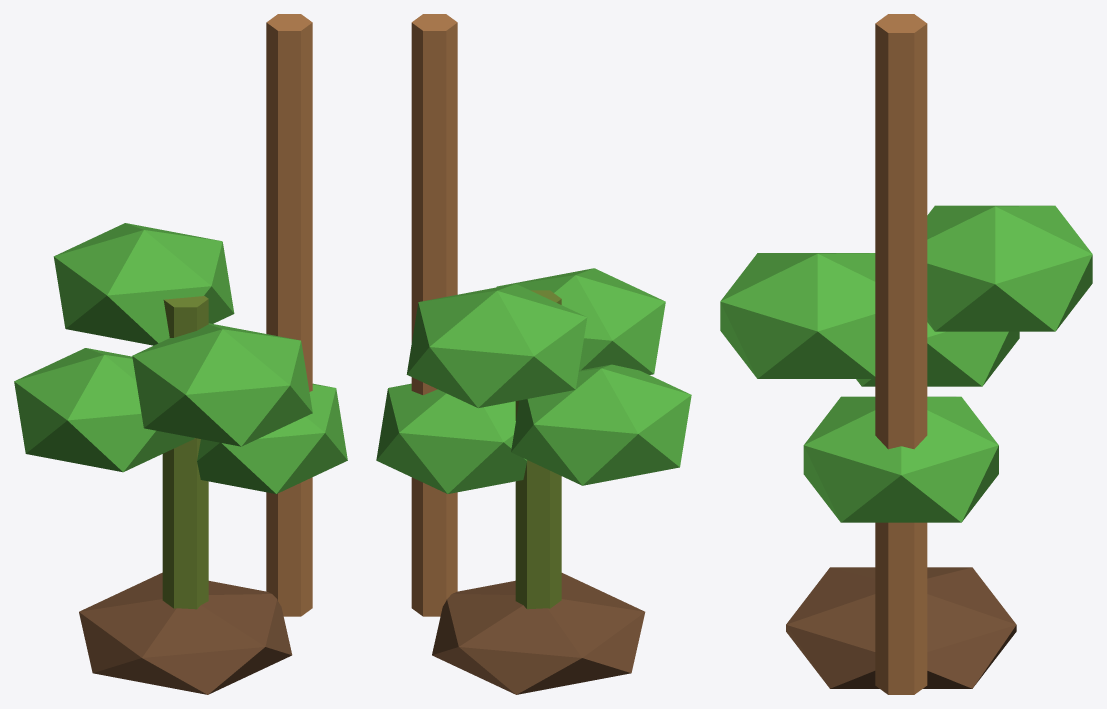
Rendered from crop_tomato_2.glb.
3 renders of one model, left to right at view 1: azimuth 30°, elevation 25°; view 2: azimuth 150°, elevation 25°; view 3: azimuth 270°, elevation 25°, orthographic. The views are drawn at different scales.
Parts seen in each view (by area): view 1: crop_tomato_2; view 2: crop_tomato_2; view 3: crop_tomato_2.
Part boxes in pixels (box(x1,y1,x2,y2)): crop_tomato_2: box(14, 14, 347, 694); crop_tomato_2: box(376, 14, 691, 694); crop_tomato_2: box(720, 14, 1092, 694).
Size of the model in its own units: 0.4898 by 0.9691 by 0.4643.
